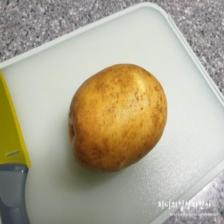Potato: (66, 62, 170, 175)
